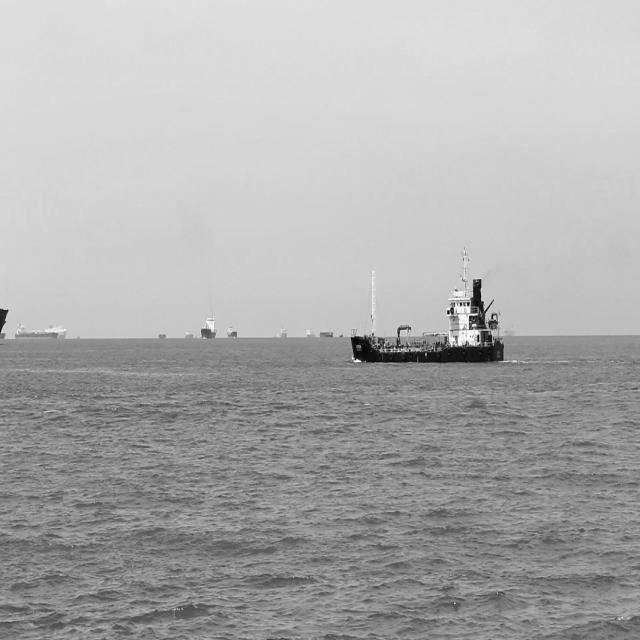ship: (350, 241, 508, 368), (14, 318, 66, 341), (198, 308, 218, 342), (224, 319, 240, 342), (275, 325, 289, 343), (318, 326, 333, 340), (181, 330, 195, 342), (306, 326, 316, 342), (156, 330, 169, 340), (336, 326, 344, 341)
